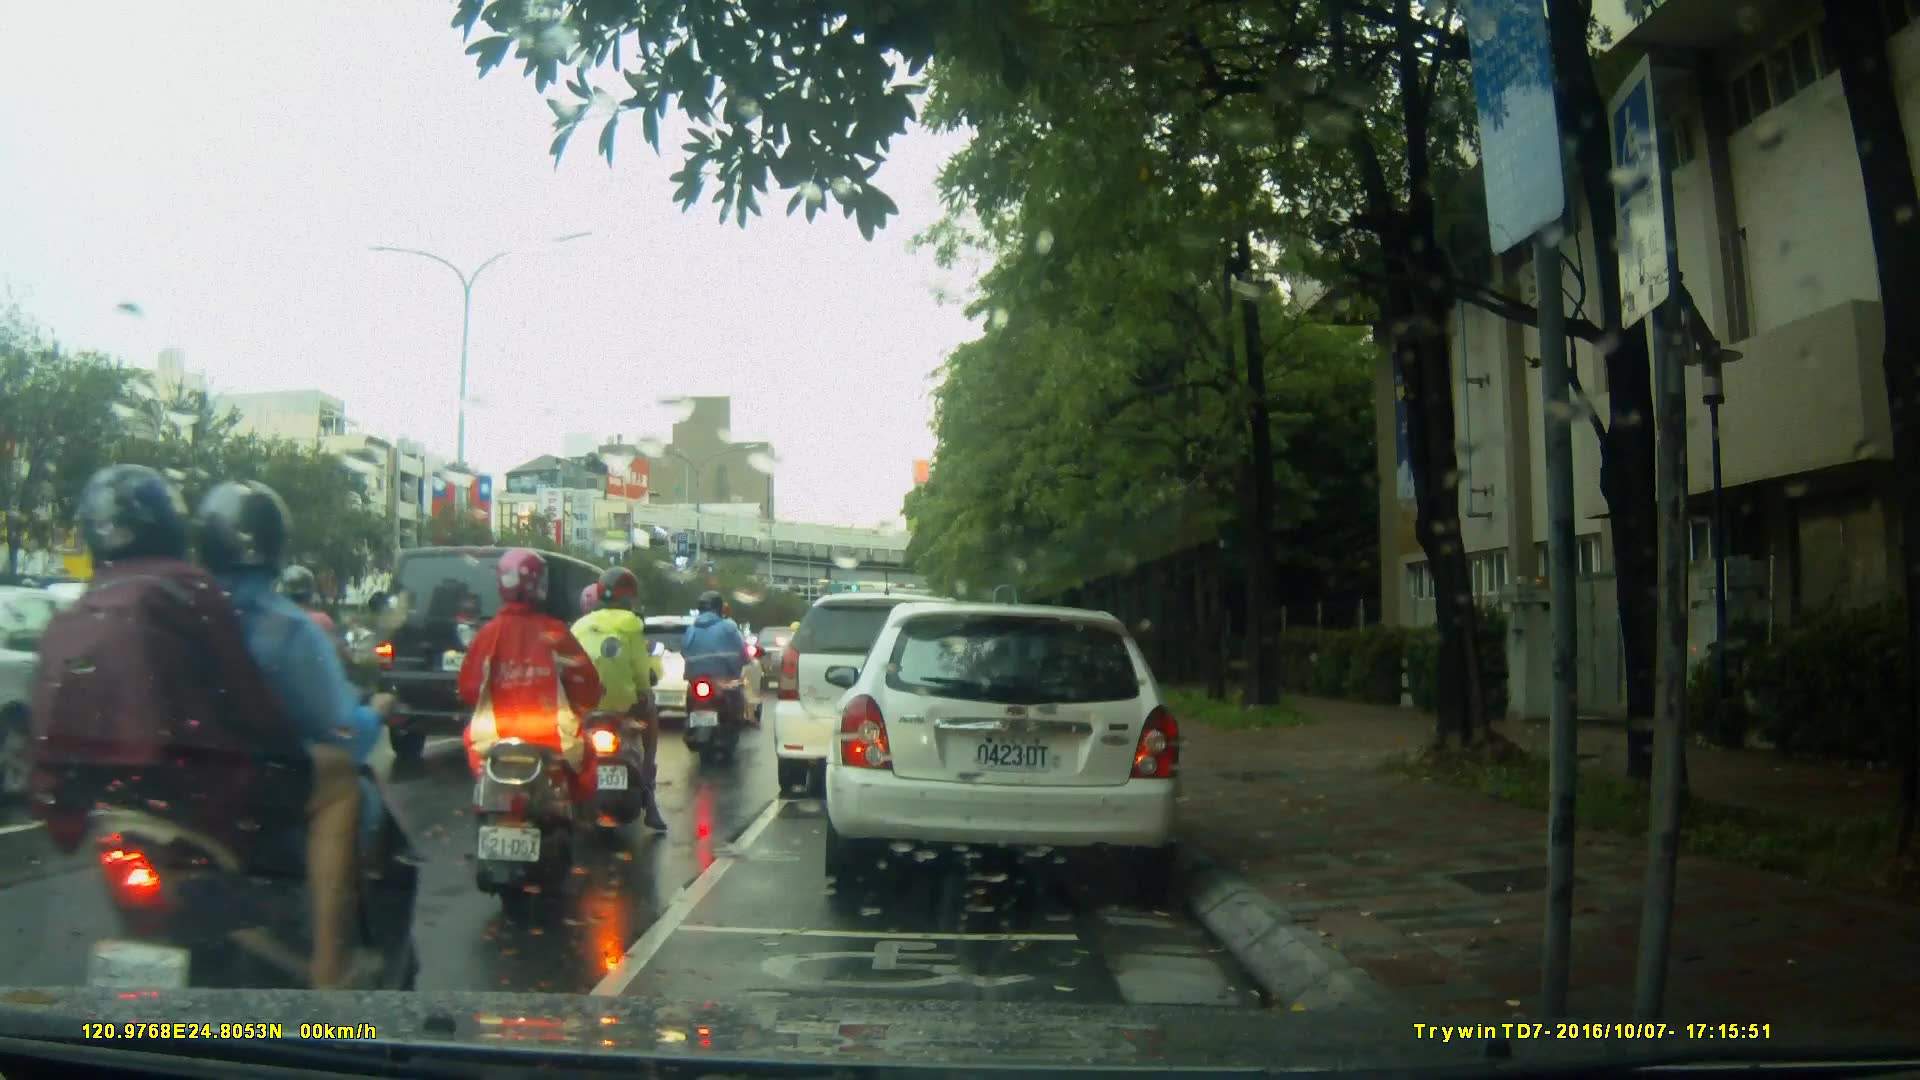rider: (26, 469, 396, 1035), (457, 545, 612, 925), (205, 563, 372, 815), (566, 567, 682, 842), (586, 595, 666, 813), (676, 591, 754, 760)
vehicle: (822, 604, 1188, 883), (374, 543, 651, 768), (774, 595, 995, 802)
